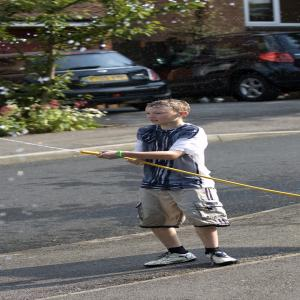Vehicle-registration-plate: (81, 74, 130, 83)
